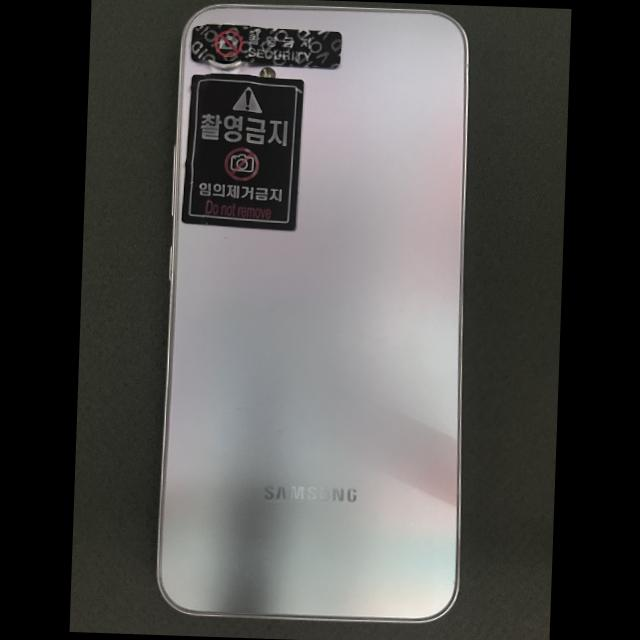lens: (210, 60, 244, 69)
phone: (155, 2, 469, 623)
sticker: (180, 73, 304, 232), (190, 23, 342, 69)
